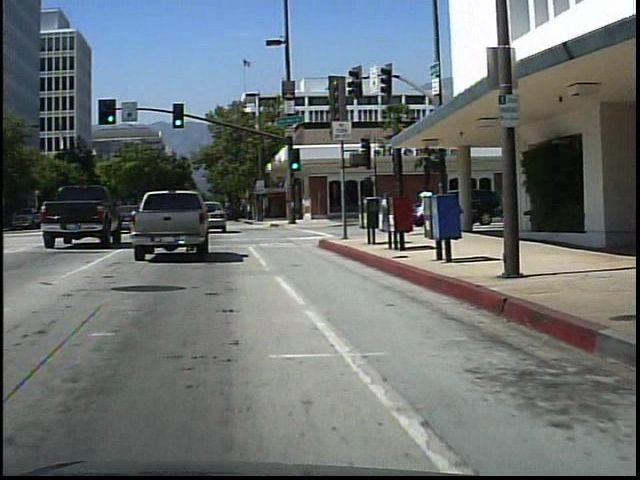person: (416, 184, 437, 235)
